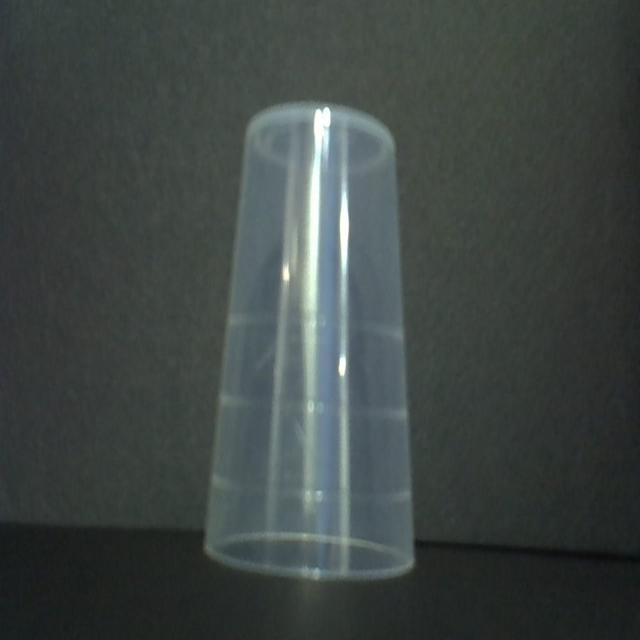cup: (198, 97, 424, 584)
